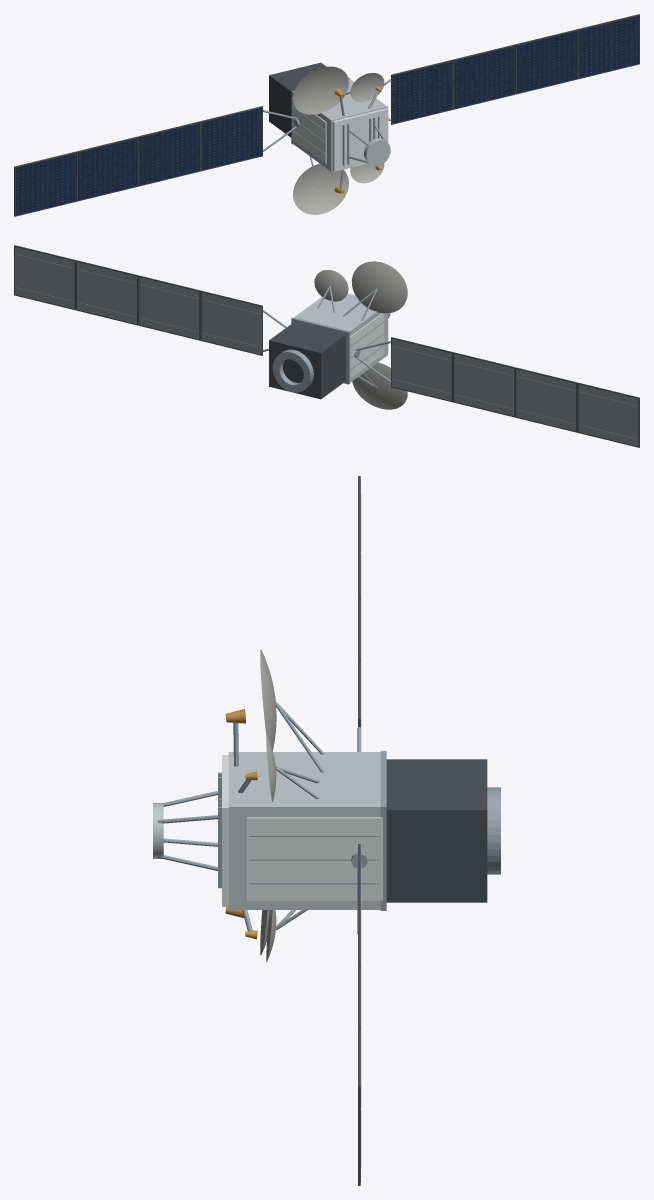
File: ref-fs-1300hl-26824.glb
The picture shows the model from 3 angles, top to bottom: view 1: azimuth 30°, elevation 25°; view 2: azimuth 150°, elevation 25°; view 3: azimuth 270°, elevation 25°; orthographic projection. The views are drawn at different scales.
Parts seen in each view (by area): view 1: Solar cell panel (×8), Communications reflector (×4), Solar panel frame (×8), Earth-facing deck, Service module, Payload module, Radiator face, Antenna tower platform; view 2: Rear array substrate (×8), Communications reflector (×3), Service module, Solar panel frame (×8), Payload module, Radiator face, Launch adapter ring, Module interface; view 3: Service module, Payload module, Radiator face, Launch adapter ring, Earth-facing deck, Communications reflector.
Boxes of the visible parts, <box> form: Solar cell panel (×8): <box>15,16,639,215</box>; Communications reflector (×4): <box>293,66,384,214</box>; Solar panel frame (×8): <box>14,14,639,216</box>; Earth-facing deck: <box>332,108,388,171</box>; Service module: <box>269,62,326,137</box>; Payload module: <box>293,79,387,171</box>; Radiator face: <box>292,97,326,163</box>; Antenna tower platform: <box>363,138,390,166</box>; Rear array substrate (×8): <box>15,247,638,446</box>; Communications reflector (×3): <box>314,261,407,409</box>; Service module: <box>269,322,345,399</box>; Solar panel frame (×8): <box>14,245,639,447</box>; Payload module: <box>294,294,387,382</box>; Radiator face: <box>349,313,384,378</box>; Launch adapter ring: <box>272,349,313,392</box>; Module interface: <box>291,317,350,384</box>; Service module: <box>386,759,487,902</box>; Payload module: <box>228,752,380,909</box>; Radiator face: <box>247,817,382,900</box>; Launch adapter ring: <box>487,787,500,874</box>; Earth-facing deck: <box>222,755,228,906</box>; Communications reflector: <box>260,649,276,750</box>.
Size of the model in its own units: 30.97 by 6.93 by 7.46.
8 materials, 1 textured.
